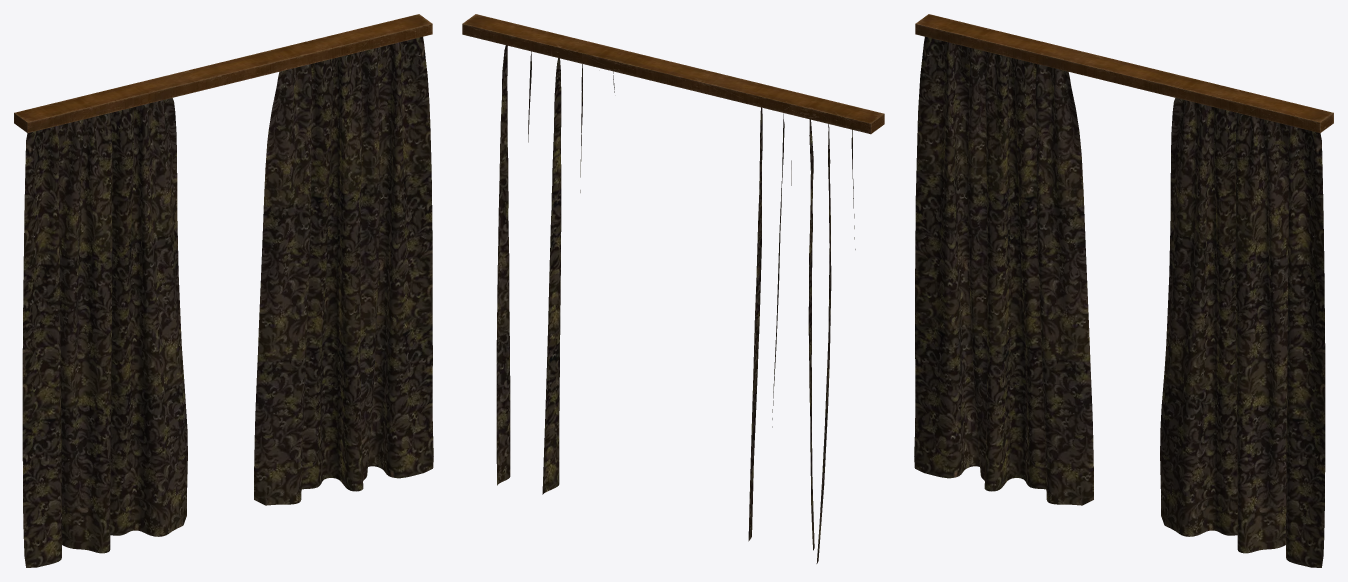
The model's file is cortinas.glb.
The picture shows the model from 3 angles, left to right: view 1: azimuth 30°, elevation 25°; view 2: azimuth 150°, elevation 25°; view 3: azimuth 330°, elevation 25°; orthographic projection.
Parts seen in each view (by area): view 1: Base; view 2: Base; view 3: Base.
Part boxes in pixels (box(x1,y1,x2,y2)): Base: box(14, 14, 433, 567); Base: box(462, 14, 884, 563); Base: box(914, 14, 1333, 567).
Bounding box in the file's own units: 288 × 300 × 26.9.
1 material, 1 textured.
